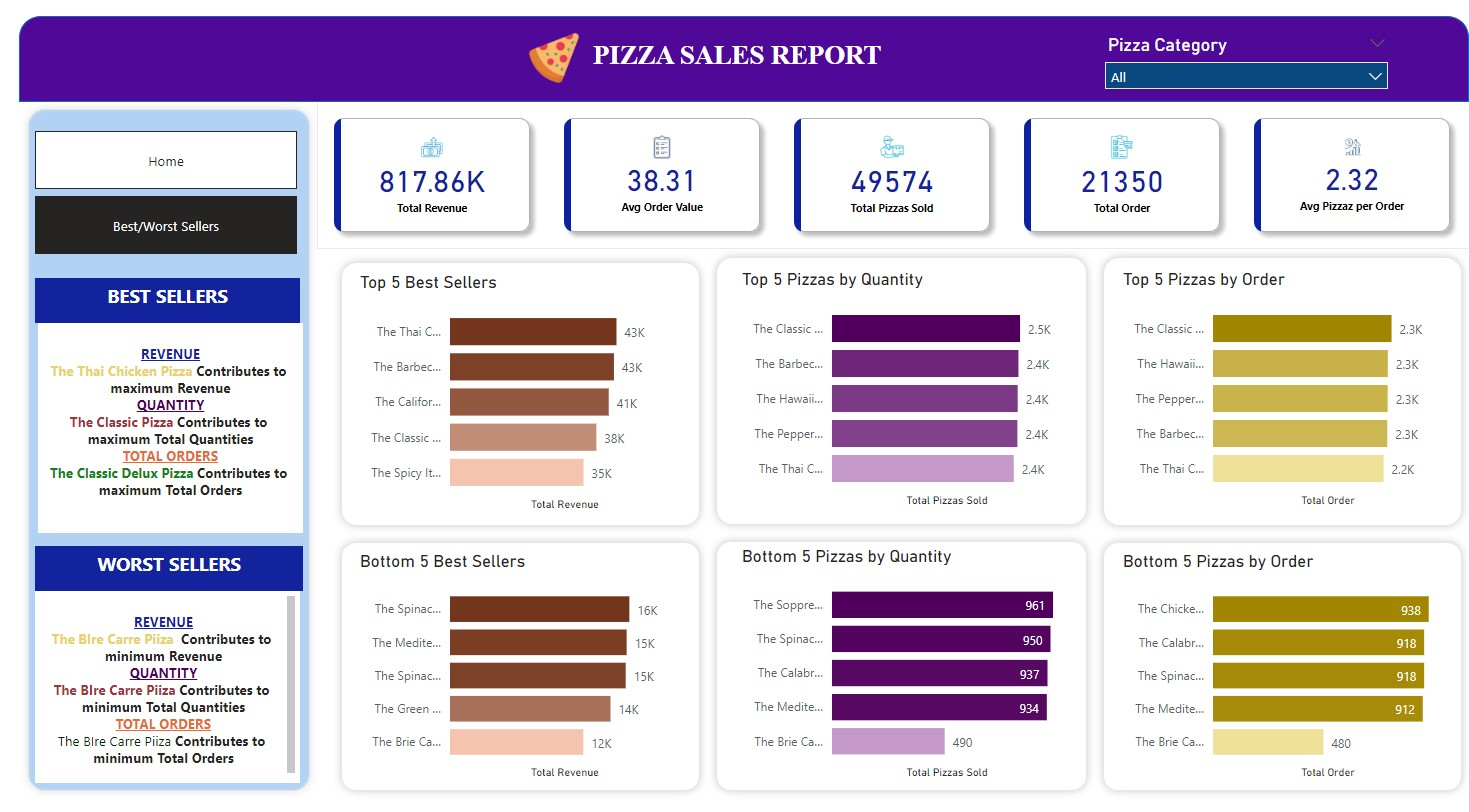

The dashboard page shown, as its layout file describes it:
{"tool":"powerbi","page":{"name":"Best/Worst Sellers","canvas":[1500,820],"ordinal":1},"visuals":[{"type":"cardVisual","fields":{"Data":["pizza_sales.Total Revenue","pizza_sales.Avg Order Value","pizza_sales.Total Pizzas Sold","pizza_sales.Total Order","pizza_sales.Avg Pizzaz per Order"]},"box":[321.7,105,1153.3,148.3],"z":0},{"type":"shape","box":[24.3,20,1450,85.7],"z":1000},{"type":"textbox","box":[592.9,38.6,312.9,47.1],"z":2000},{"type":"image","box":[508.6,31.4,100,61.4],"z":3000},{"type":"shape","box":[337.5,257.5,375,280],"z":4000},{"type":"slicer","title":"% of Sales by Pizza Category","fields":{"Values":["pizza_sales.pizza_category"]},"box":[1100,32.5,302.5,62.5],"z":12000},{"type":"shape","box":[25,105,297.5,697.5],"z":14000},{"type":"textbox","box":[40,281.7,265,45],"z":15000},{"type":"textbox","box":[43.3,326.7,265,210],"z":16000},{"type":"textbox","box":[40,550,268.3,45],"z":17000},{"type":"textbox","box":[40,595,265,191.7],"z":18000},{"type":"shape","box":[713.3,253.3,386.7,283.3],"z":18001},{"type":"shape","box":[1100,252.5,375,285],"z":18002},{"type":"shape","box":[337.5,537.5,375,265],"z":18003},{"type":"shape","box":[713.3,536.7,386.7,266.7],"z":18004},{"type":"shape","box":[1100,537.5,375,265],"z":18005},{"type":"barChart","title":"Top 5 Best Sellers","fields":{"Category":["pizza_sales.pizza_name"],"Y":["pizza_sales.Total Revenue"]},"box":[360,276.2,330,242.5],"z":18006},{"type":"barChart","title":"Bottom 5 Best Sellers","fields":{"Category":["pizza_sales.pizza_name"],"Y":["pizza_sales.Total Revenue"]},"box":[360,555,330,231.7],"z":18007},{"type":"barChart","title":"Top 5 Pizzas by Quantity","fields":{"Category":["pizza_sales.pizza_name"],"Y":["pizza_sales.Total Pizzas Sold"]},"box":[741.7,273.3,330,241.7],"z":18008},{"type":"barChart","title":"Bottom 5 Pizzas by Quantity","fields":{"Category":["pizza_sales.pizza_name"],"Y":["pizza_sales.Total Pizzas Sold"]},"box":[741.7,550,330,236.7],"z":18009},{"type":"barChart","title":"Top 5 Pizzas by Order ","fields":{"Category":["pizza_sales.pizza_name"],"Y":["pizza_sales.Total Order"]},"box":[1123.3,273.3,330,241.7],"z":18010},{"type":"barChart","title":"Bottom 5 Pizzas by Order ","fields":{"Category":["pizza_sales.pizza_name"],"Y":["pizza_sales.Total Order"]},"box":[1123.3,555,330,231.7],"z":18011},{"type":"pageNavigator","box":[40,200,261.7,58.3],"z":18012},{"type":"pageNavigator","box":[40,135,261.7,58.3],"z":18013}]}

Visuals, with their boxes in screenshot pixels (x1, y1, x2, y2), scaled from the page's 1500x820 canvas onto the 1469x812 screenshot:
cardVisual - pizza_sales.Total Revenue x pizza_sales.Avg Order Value: x1=315, y1=104, x2=1445, y2=251
shape: x1=24, y1=20, x2=1444, y2=105
textbox: x1=581, y1=38, x2=887, y2=85
image: x1=498, y1=31, x2=596, y2=92
shape: x1=331, y1=255, x2=698, y2=532
"% of Sales by Pizza Category" slicer: x1=1077, y1=32, x2=1374, y2=94
shape: x1=24, y1=104, x2=316, y2=795
textbox: x1=39, y1=279, x2=299, y2=324
textbox: x1=42, y1=324, x2=302, y2=531
textbox: x1=39, y1=545, x2=302, y2=589
textbox: x1=39, y1=589, x2=299, y2=779
shape: x1=699, y1=251, x2=1077, y2=531
shape: x1=1077, y1=250, x2=1445, y2=532
shape: x1=331, y1=532, x2=698, y2=795
shape: x1=699, y1=531, x2=1077, y2=796
shape: x1=1077, y1=532, x2=1445, y2=795
"Top 5 Best Sellers" barChart: x1=353, y1=274, x2=676, y2=514
"Bottom 5 Best Sellers" barChart: x1=353, y1=550, x2=676, y2=779
"Top 5 Pizzas by Quantity" barChart: x1=726, y1=271, x2=1050, y2=510
"Bottom 5 Pizzas by Quantity" barChart: x1=726, y1=545, x2=1050, y2=779
"Top 5 Pizzas by Order " barChart: x1=1100, y1=271, x2=1423, y2=510
"Bottom 5 Pizzas by Order " barChart: x1=1100, y1=550, x2=1423, y2=779
pageNavigator: x1=39, y1=198, x2=295, y2=256
pageNavigator: x1=39, y1=134, x2=295, y2=191
